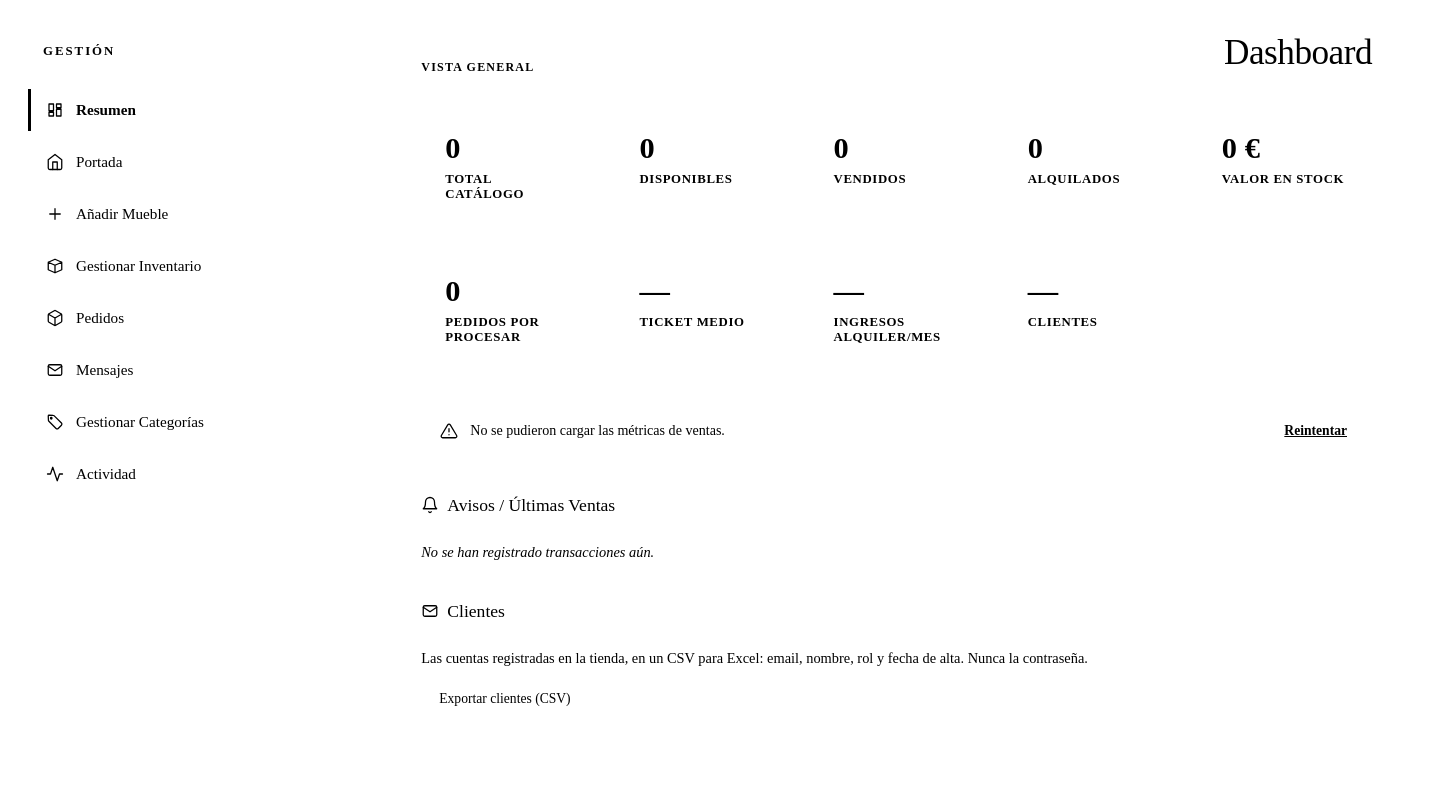
Test: Modal de edición de categoría › trae el nombre, su categoría general y la imagen actual
Click the button "Gestionar Categorías": {"x": 185, "y": 422} [28,401,341,443]
(page scrolled)
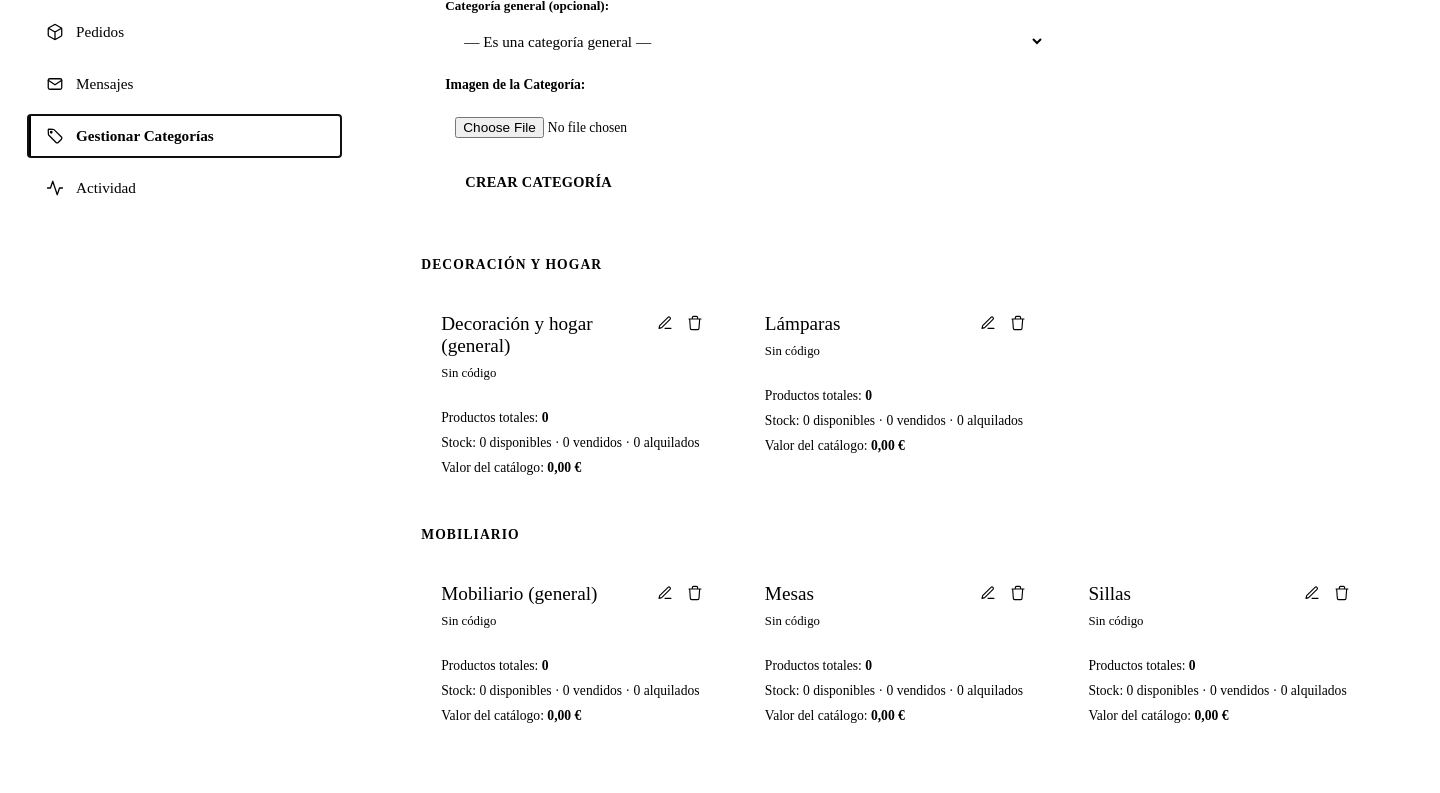
Click the button named "Editar" in the row of "Mesas": {"x": 988, "y": 593} [978,583,998,603]
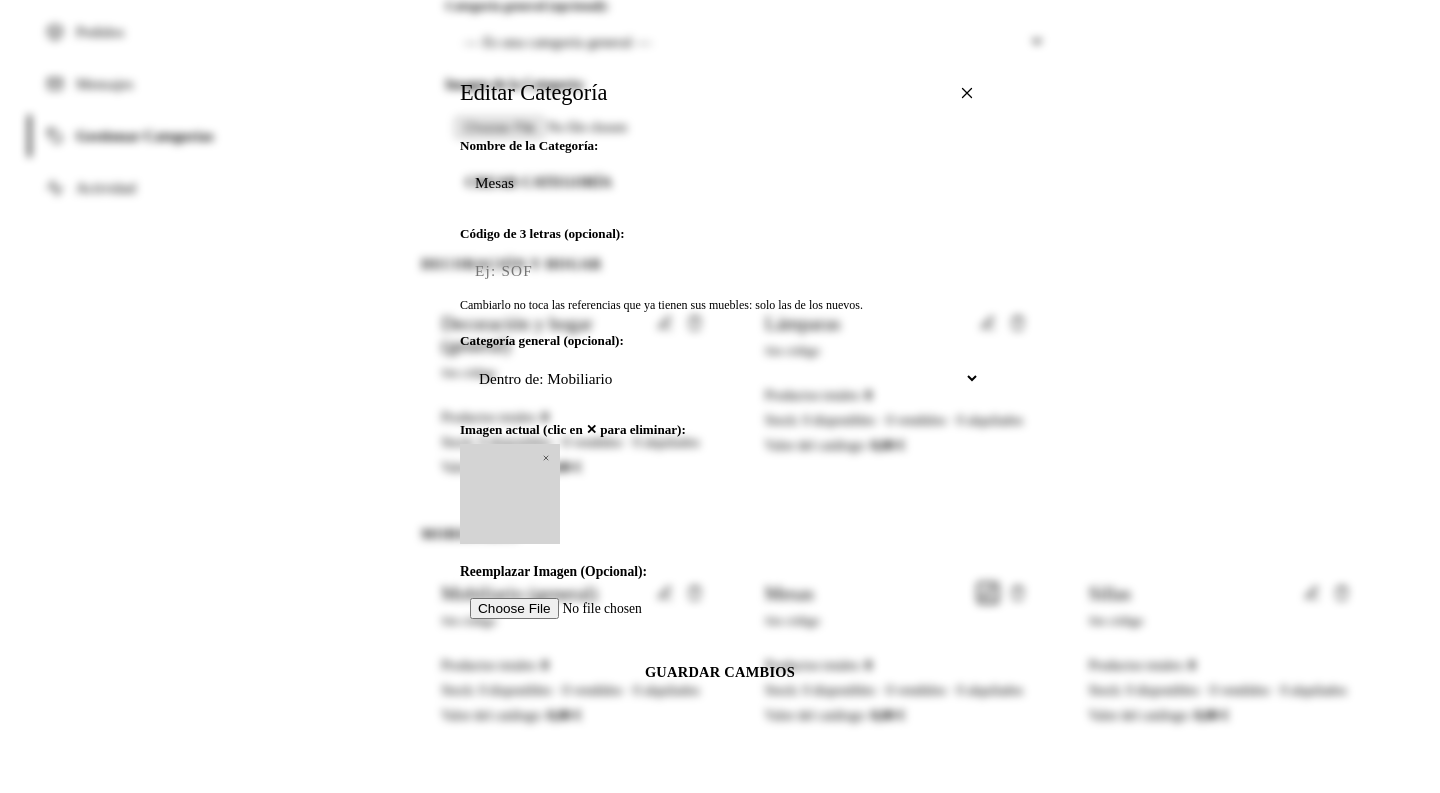
Result: the 1st field holds "Mesas" at [460,160,980,206]
Result: the dropdown shows "Dentro de: Mobiliario" at [460,355,980,402]
